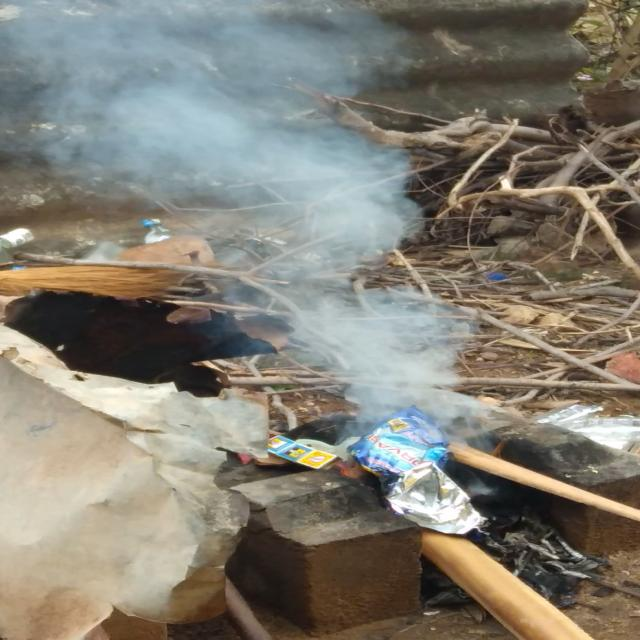firerotation: (0, 0, 506, 499)
